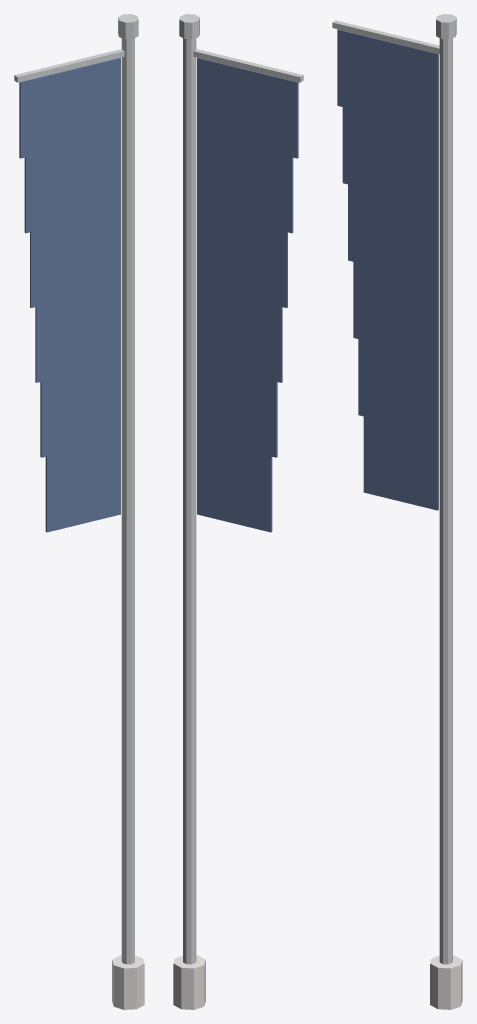
Rendered from Banner_Flag_Blue.fbx.
The picture shows the model from 3 angles, left to right: view 1: azimuth 30°, elevation 25°; view 2: azimuth 150°, elevation 25°; view 3: azimuth 330°, elevation 25°; orthographic projection.
Visible parts, largest first — view 1: Banner_Flag_Blue; view 2: Banner_Flag_Blue; view 3: Banner_Flag_Blue.
Boxes of the visible parts, x1,y1,x2,y2 form: Banner_Flag_Blue: [14, 14, 144, 1009]; Banner_Flag_Blue: [173, 14, 303, 1009]; Banner_Flag_Blue: [332, 14, 462, 1009].
Bounding box in the file's own units: 0.96 × 7.12 × 0.22.
